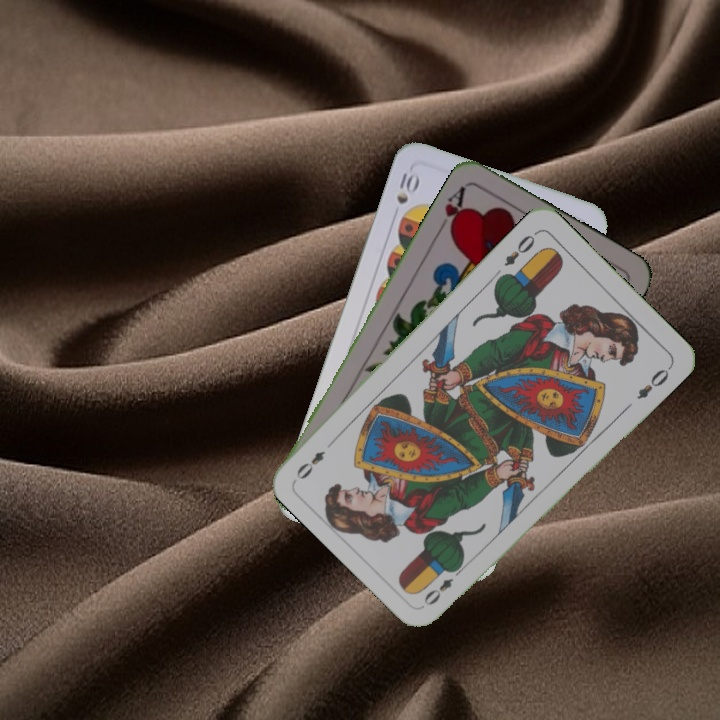EO: (420, 562, 467, 609), (500, 227, 540, 269)
HA: (434, 181, 469, 239)
S10: (392, 168, 420, 207)
